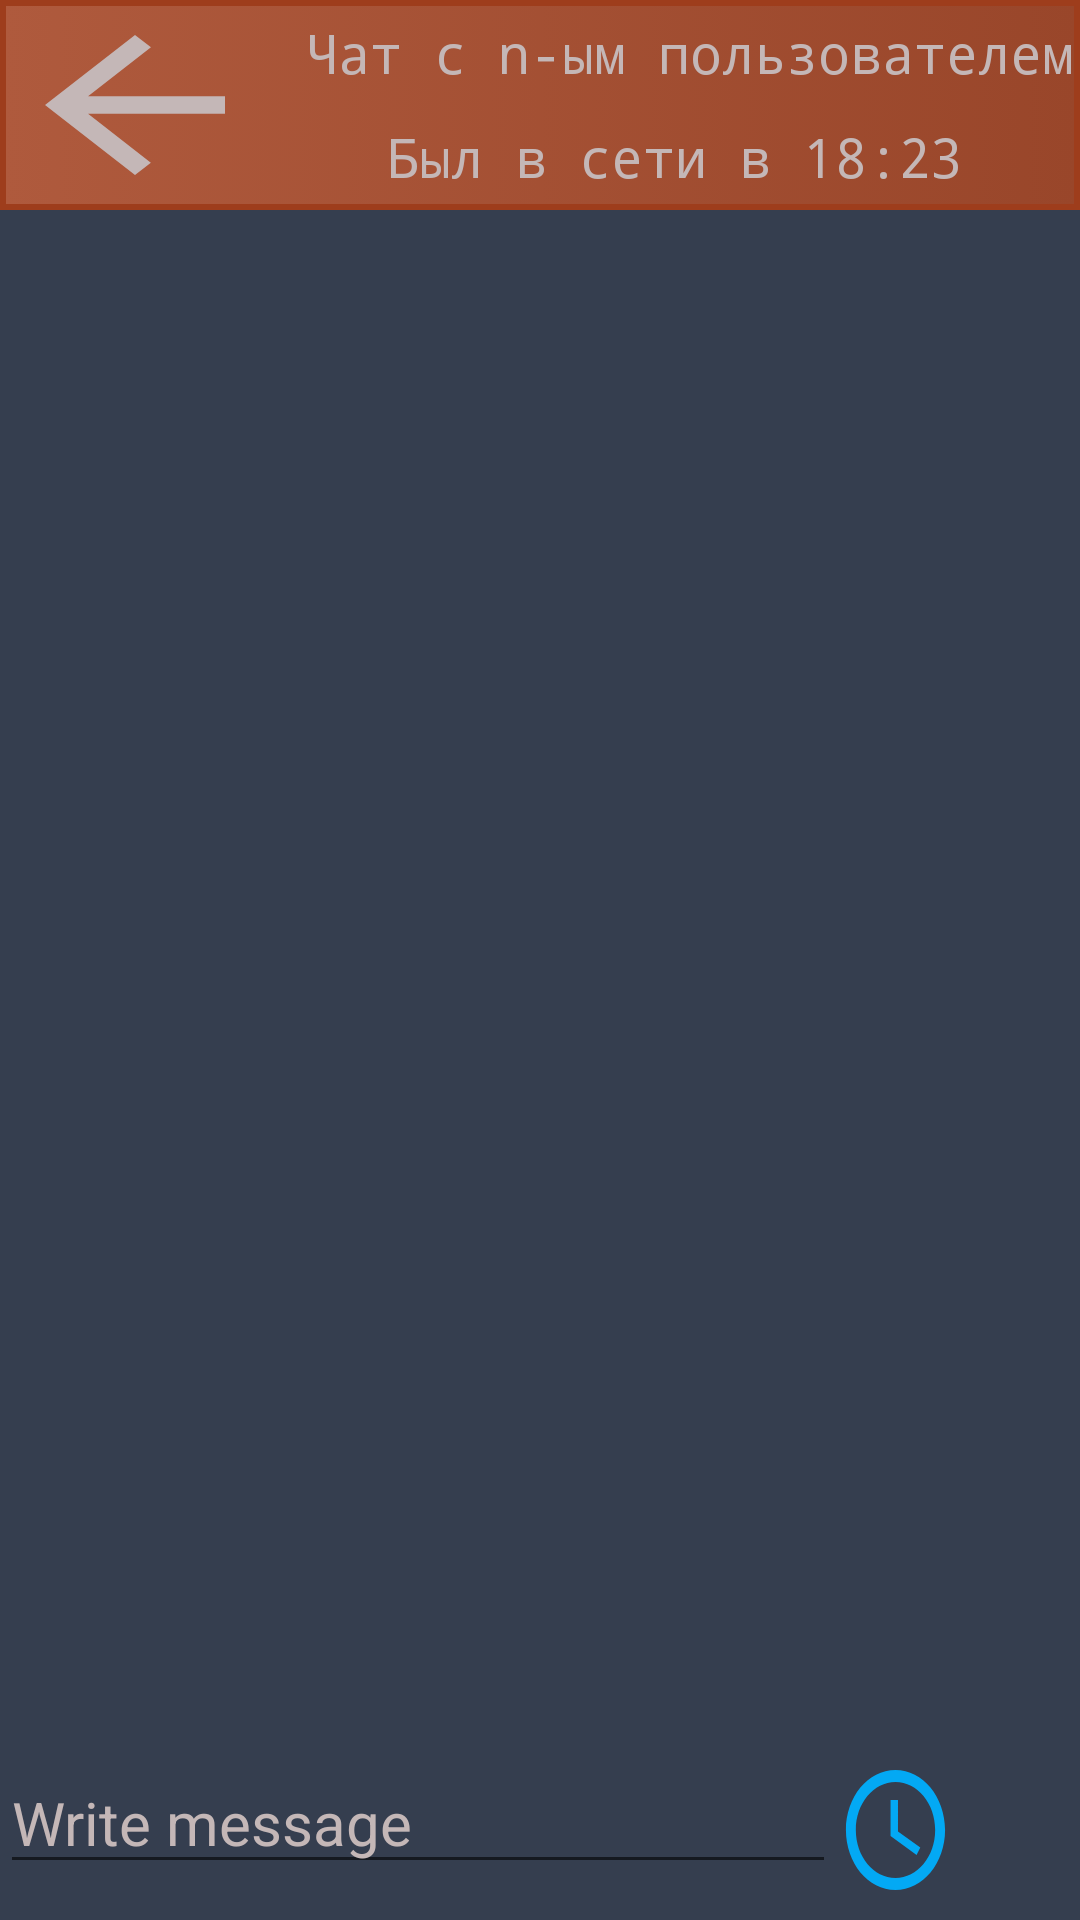

Named icons in this screenshot (1080x1920) and their centers, (x,y):
access time: (895,1830)
arrow back: (135,105)
